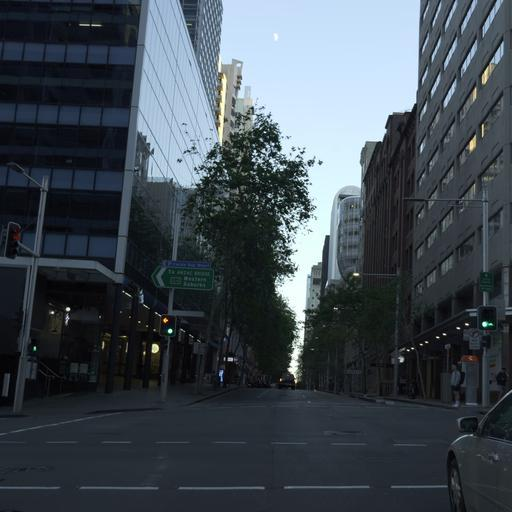Street light: (401, 195, 492, 409), (3, 159, 49, 415), (350, 270, 400, 395)
